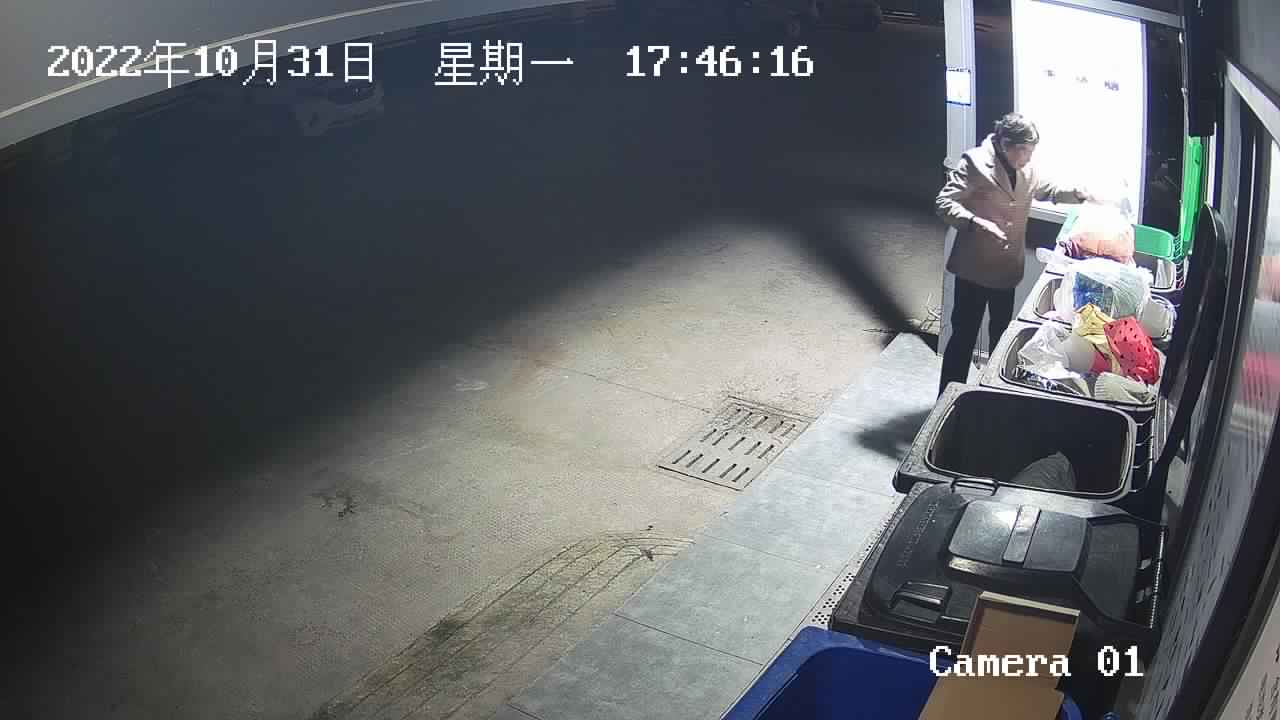person: (933, 111, 1101, 403)
